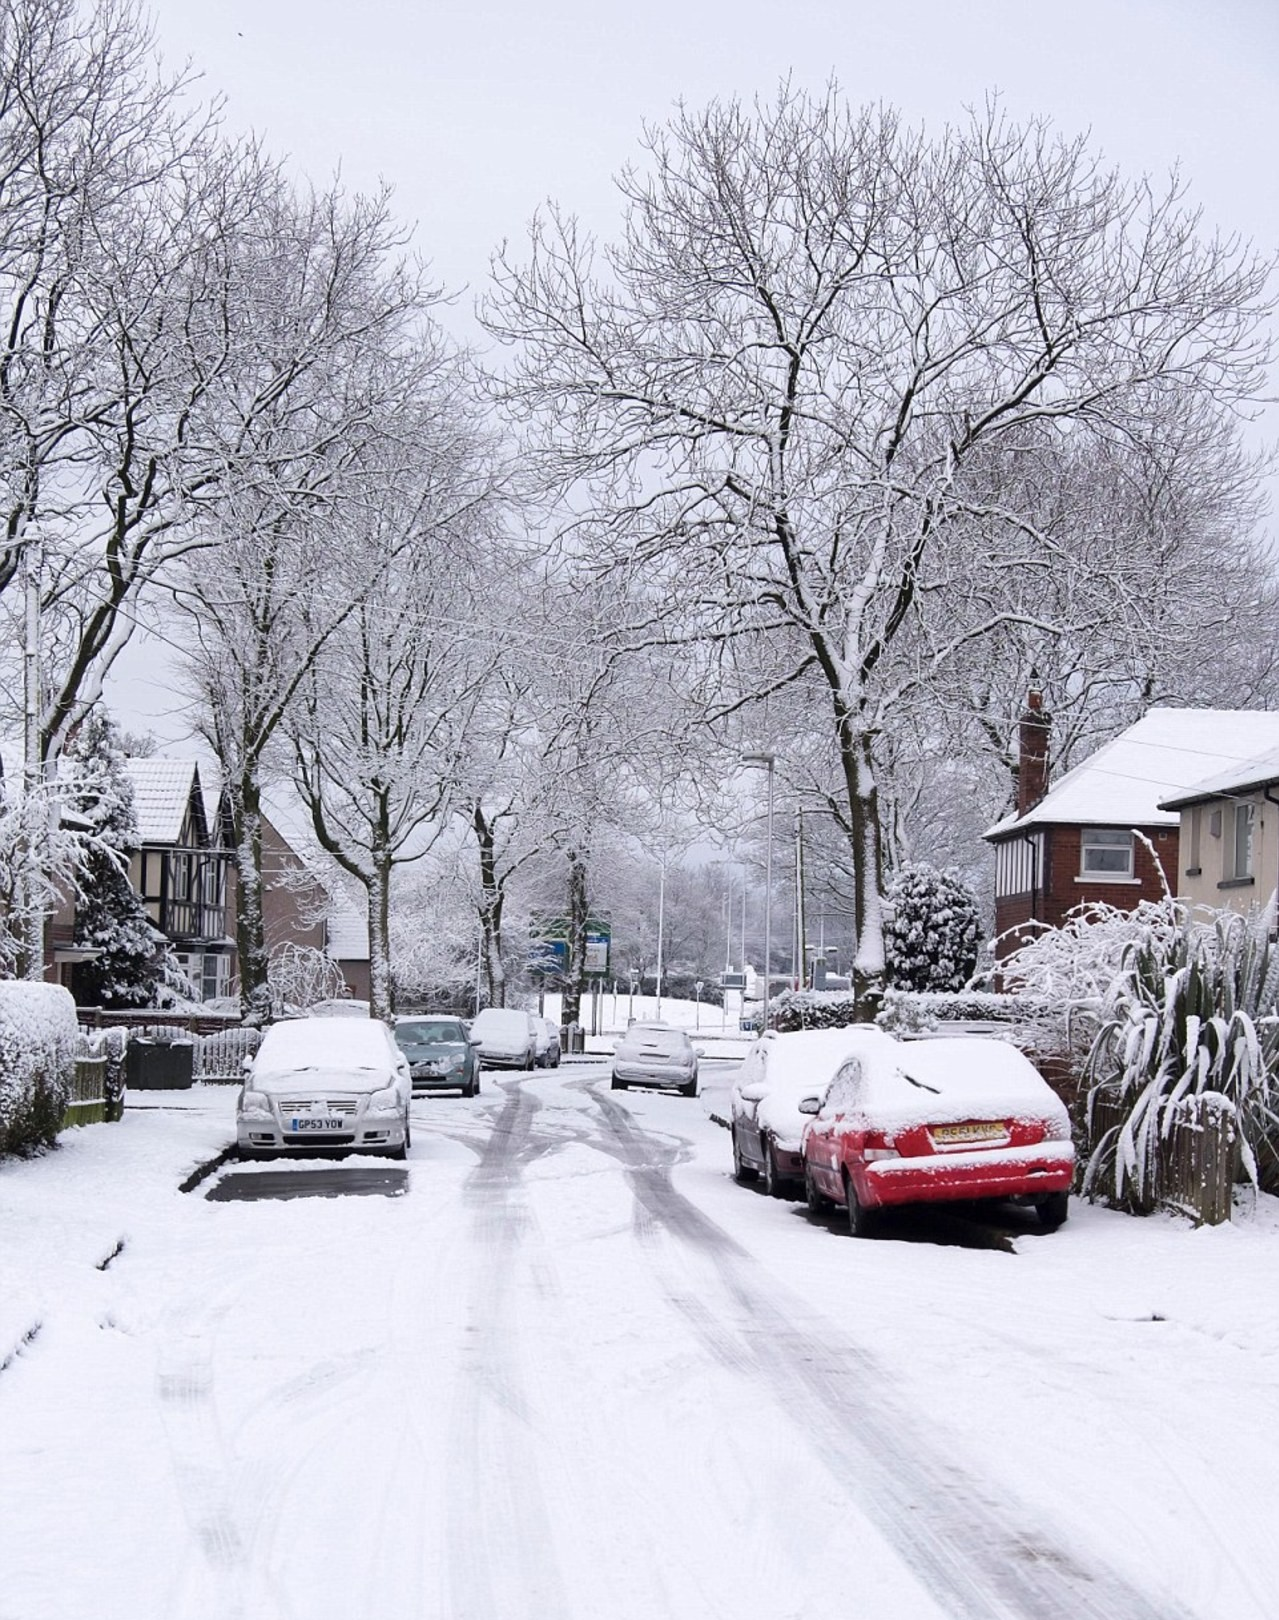car: (797, 1032, 1074, 1241), (726, 1016, 885, 1201), (235, 1012, 415, 1165), (392, 1016, 481, 1097), (610, 1031, 701, 1095), (471, 1009, 539, 1078), (531, 1016, 563, 1074)
